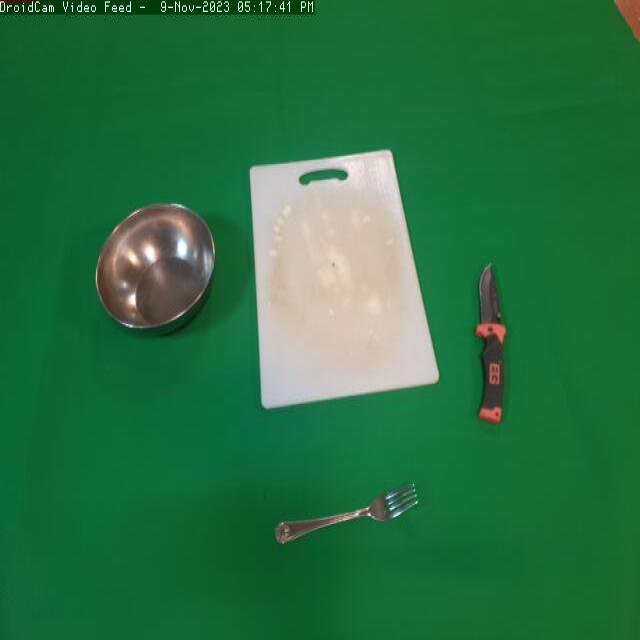bowl: (82, 195, 226, 355)
cutting board: (241, 148, 453, 422)
fork: (266, 479, 437, 559)
knife: (466, 249, 525, 436)
